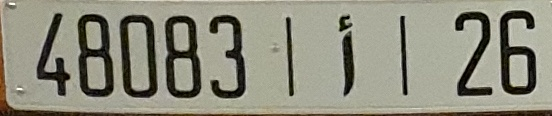0: (117, 13, 158, 99)
2: (452, 10, 494, 97)
3: (204, 13, 247, 100)
4: (34, 10, 73, 97)
6: (497, 8, 540, 97)
8: (76, 13, 116, 99), (164, 13, 204, 99)
a: (331, 10, 359, 100)
